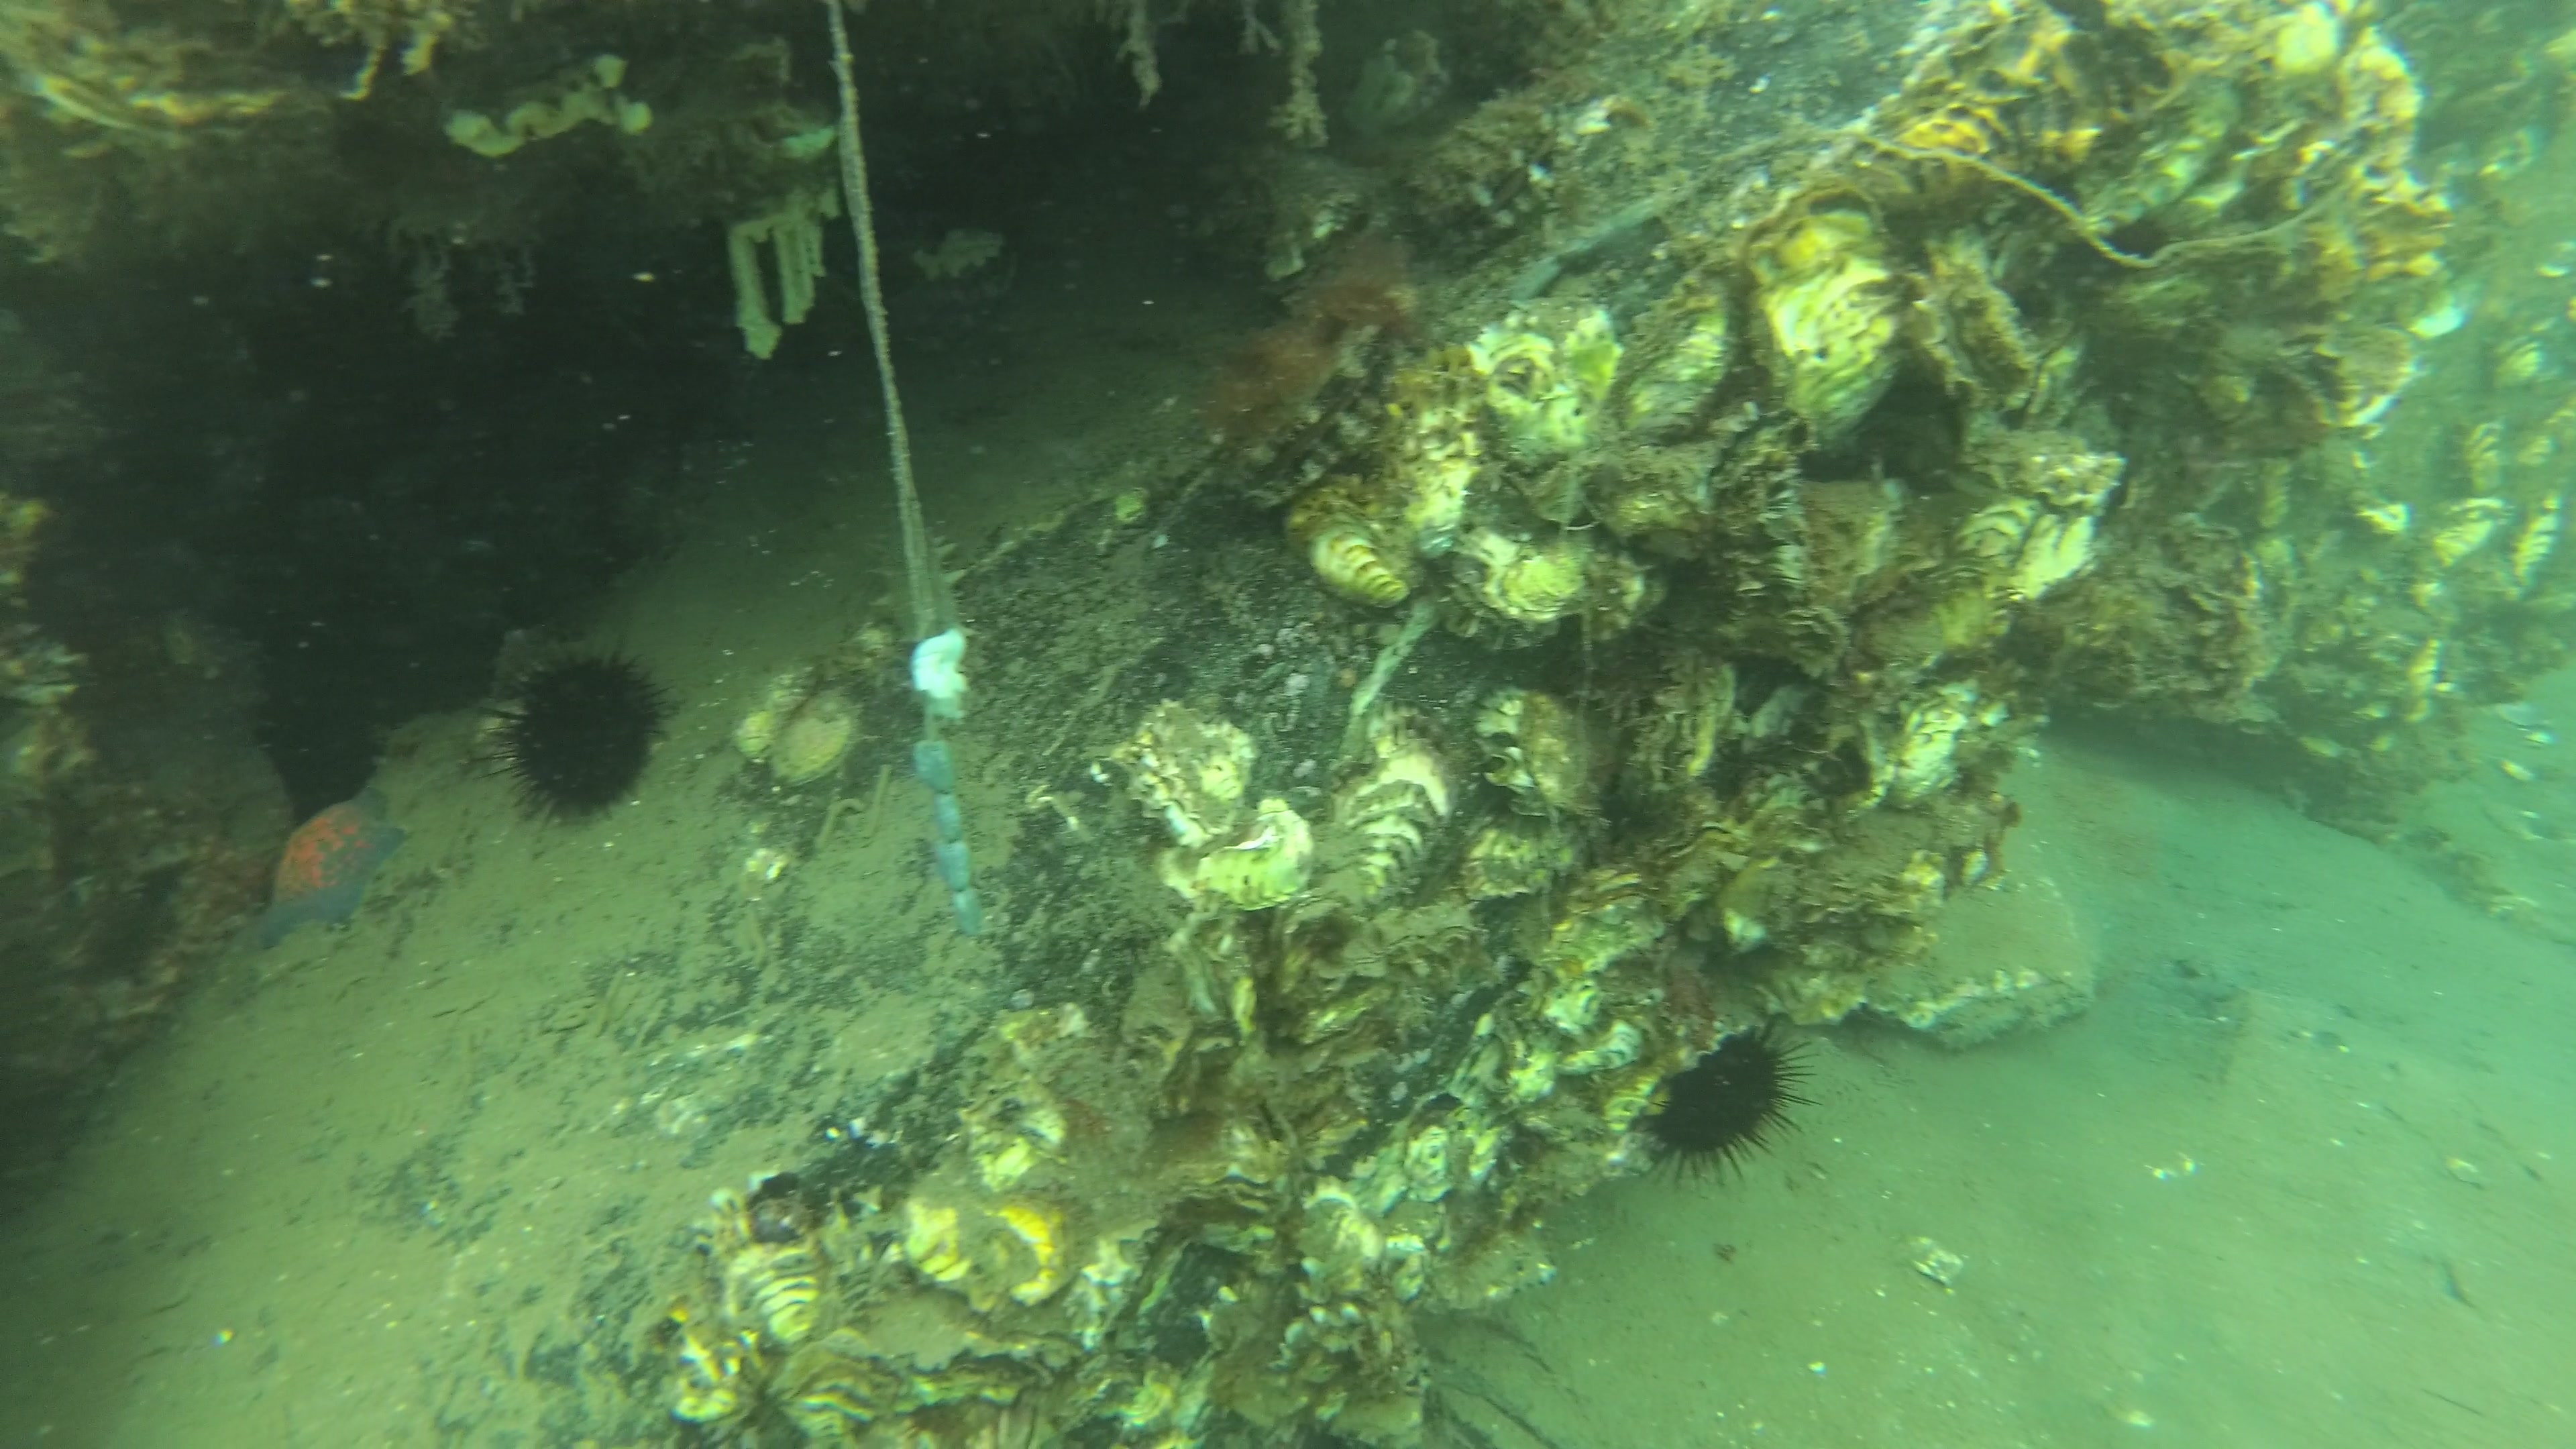echinus: (474, 644, 679, 826), (1635, 1012, 1826, 1194)
holothurian: (867, 531, 977, 701)
starfish: (249, 794, 398, 947)
